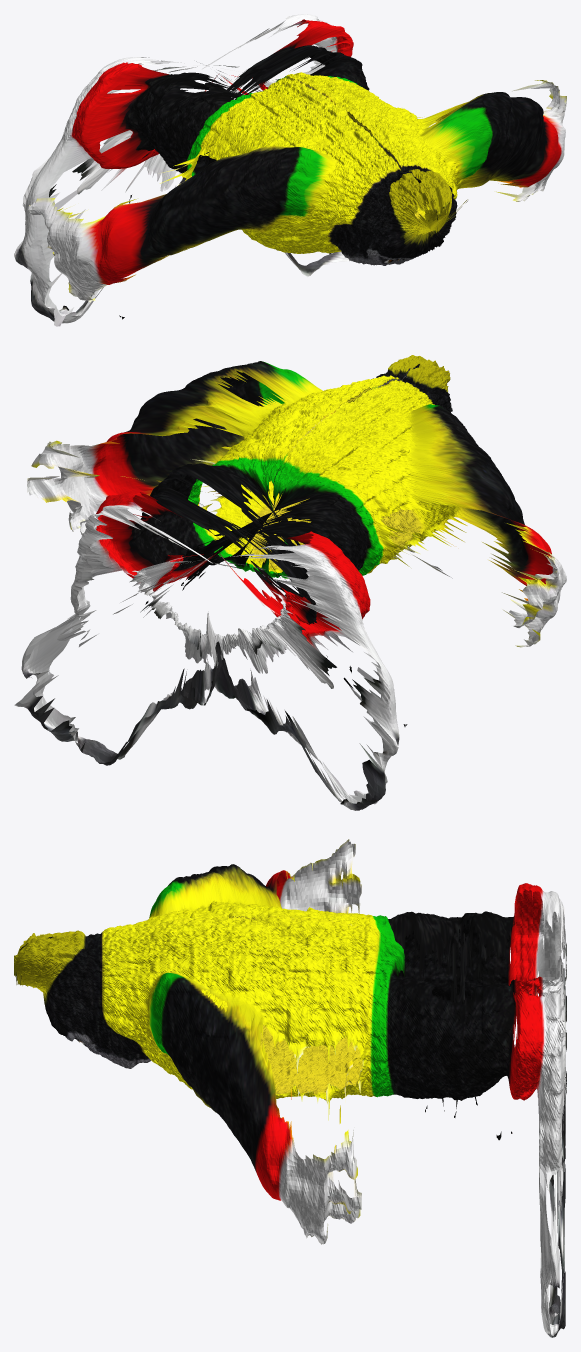
3 renders of one model, top to bottom at view 1: azimuth 30°, elevation 25°; view 2: azimuth 150°, elevation 25°; view 3: azimuth 270°, elevation 25°, orthographic. The views are drawn at different scales.
Visible parts, largest first — view 1: geometry_0; view 2: geometry_0; view 3: geometry_0.
Part boxes in pixels (box(x1,y1,x2,y2)): geometry_0: box(14, 14, 566, 326); geometry_0: box(14, 355, 566, 810); geometry_0: box(14, 839, 566, 1337).
Size of the model in its own units: 1.77 by 0.9221 by 1.34.
1 material, 1 textured.
